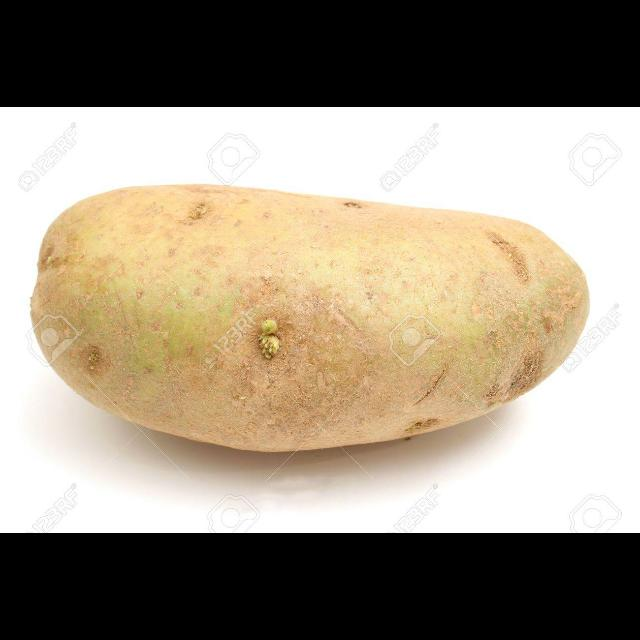Sprouted potato: (30, 185, 592, 453)
